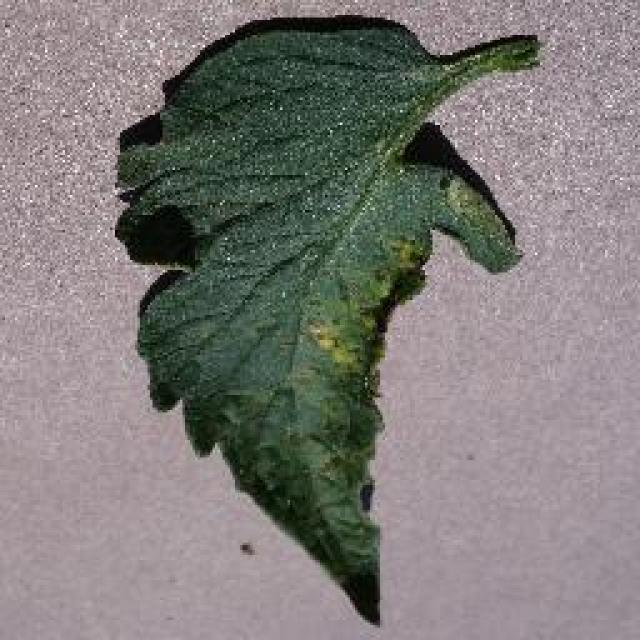Tomato___Septoria_leaf_spot: (112, 18, 538, 622)
